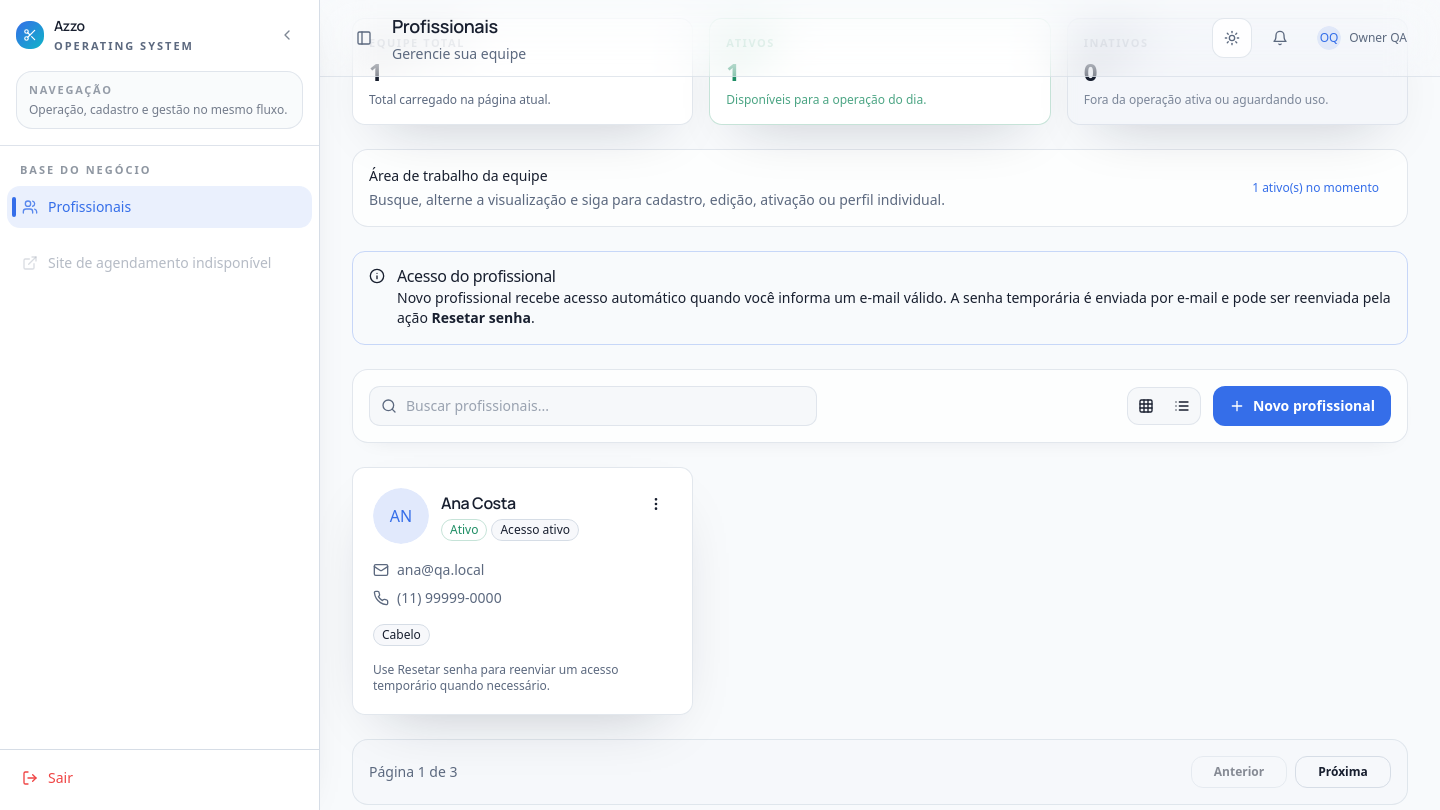
Test case: Professionals › should open the professional create dialog with consistent action labels
(page scrolled)
Click the button "Novo profissional" at (1302, 406), box [1213,386,1391,426]
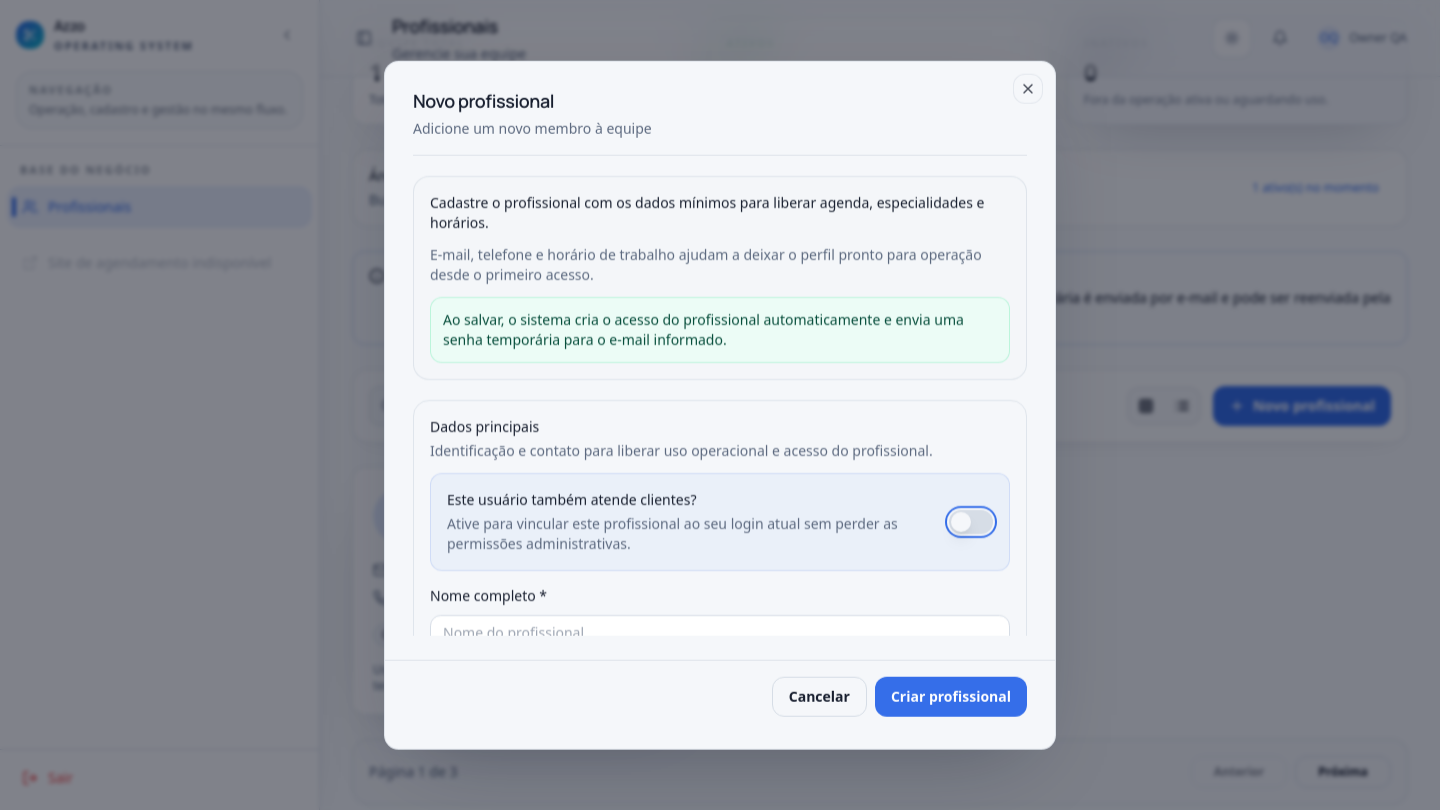
Expected: the dialog "Novo profissional Adicione um novo membro à equipe" is shown, [384,61,1056,749]
Expected: the button "Criar profissional" is shown, [875,676,1027,716]
Expected: the text "o sistema cria o acesso do profissional automaticamente" is shown, [443,309,964,348]
